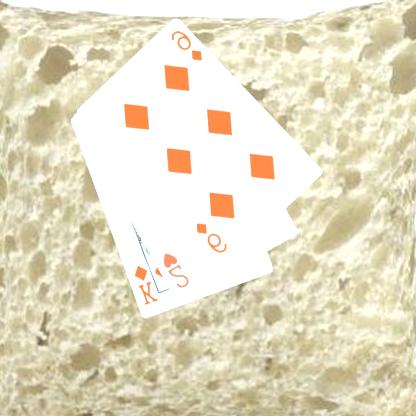2H: (162, 250, 192, 290)
6D: (170, 27, 206, 63), (195, 220, 230, 255)
KD: (133, 262, 161, 307)
